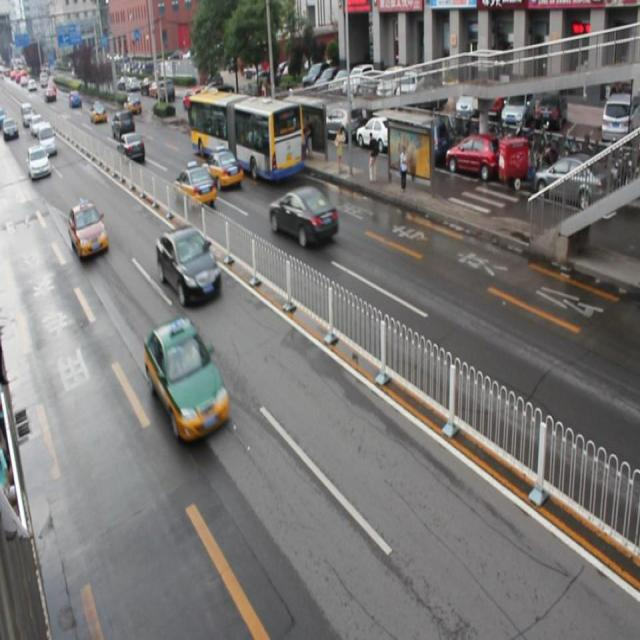car: (143, 317, 228, 444), (157, 224, 222, 305), (270, 186, 338, 248), (68, 198, 108, 259), (172, 159, 217, 210), (202, 146, 243, 190), (117, 132, 146, 164)
van: (191, 85, 303, 183)
